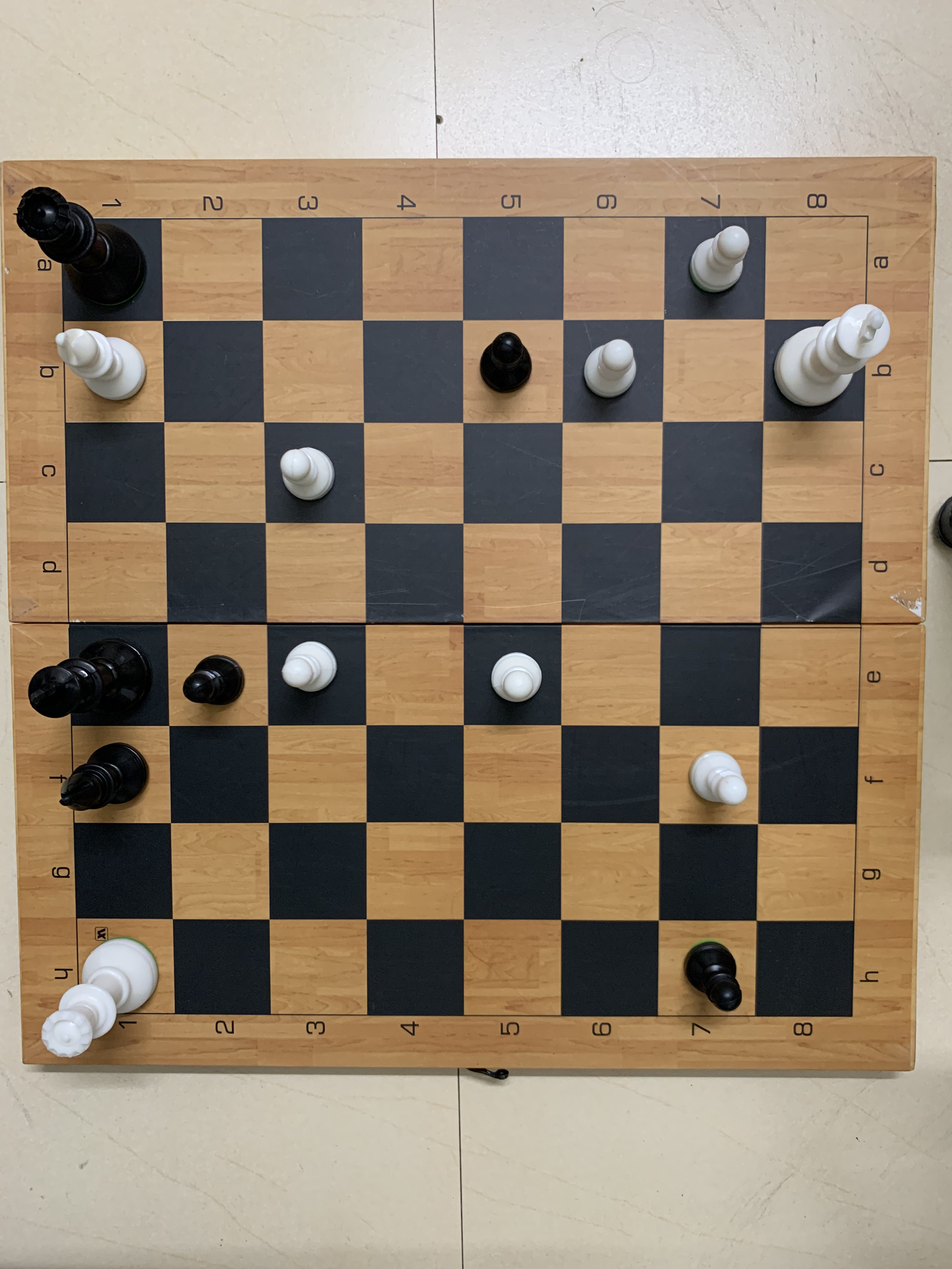black_bishop: (55, 725, 167, 814)
black_king: (13, 634, 161, 726)
black_pawn: (466, 320, 562, 415), (671, 927, 752, 1016), (176, 633, 254, 725)
black_queen: (7, 177, 167, 321)
white_bishop: (41, 317, 159, 424)
white_king: (774, 298, 902, 410)
white_pawn: (573, 320, 655, 419), (674, 221, 762, 307), (269, 427, 346, 518), (669, 743, 757, 817), (264, 627, 343, 705), (475, 642, 551, 718)
white_queen: (38, 930, 168, 1065)
